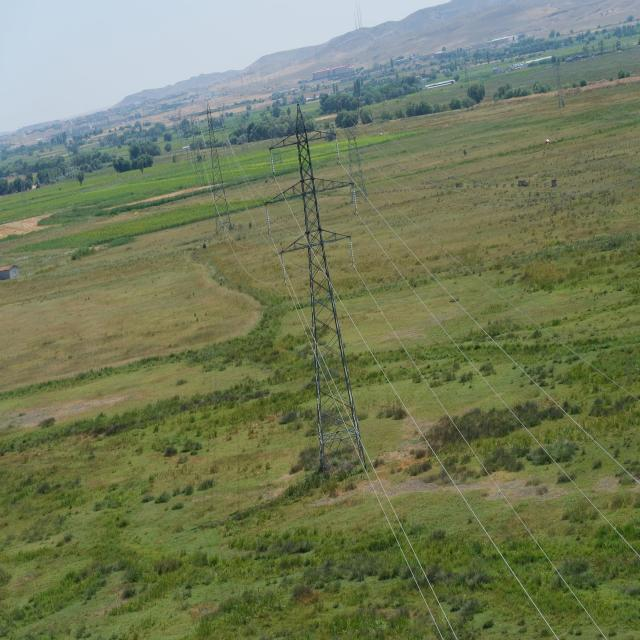direk: (305, 113, 370, 474), (202, 101, 233, 228), (341, 107, 369, 204)
